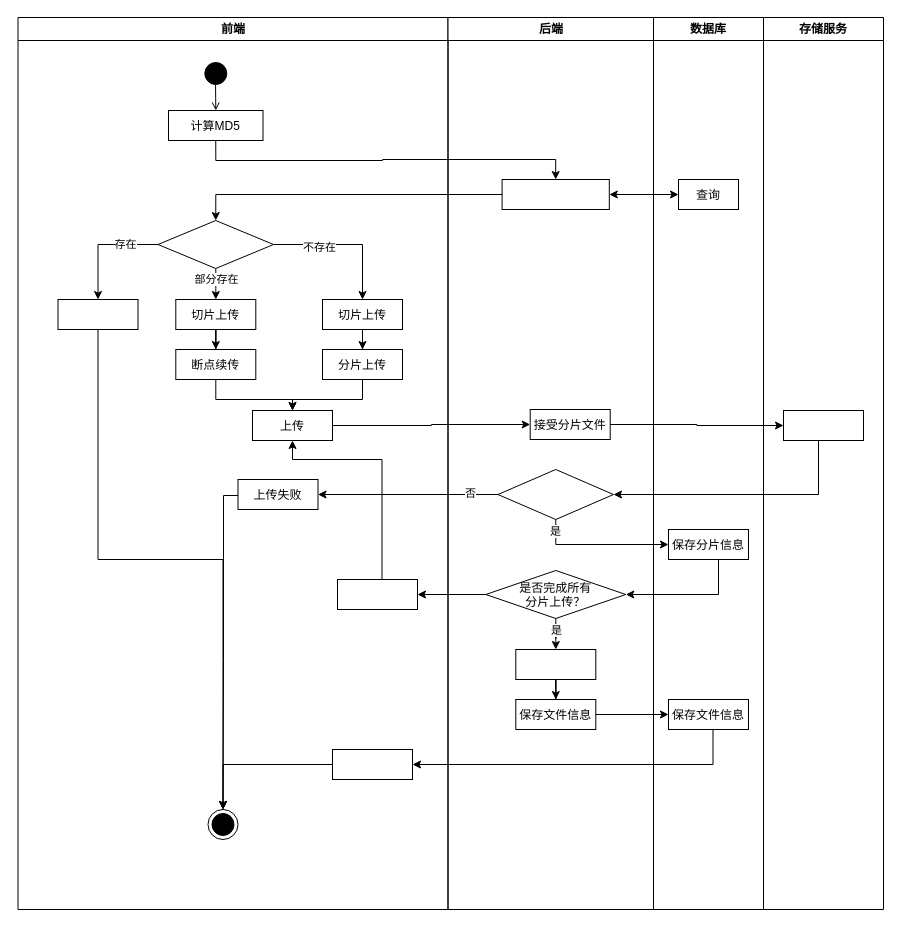
The diagram is 901 pixels wide and 927 high, and some of its shapes have lost their labels. The centre of each missing label's shape, as x and y in pixels:
MD5是否存在？: the point at 215,244
上传成功: the point at 372,764
合并分片: the point at 555,664
存储分片文件: the point at 823,425
是否上传成功？: the point at 555,494
根据MD5检查 文件是否存在: the point at 555,194
秒传: the point at 97,314
继续上传: the point at 377,594
